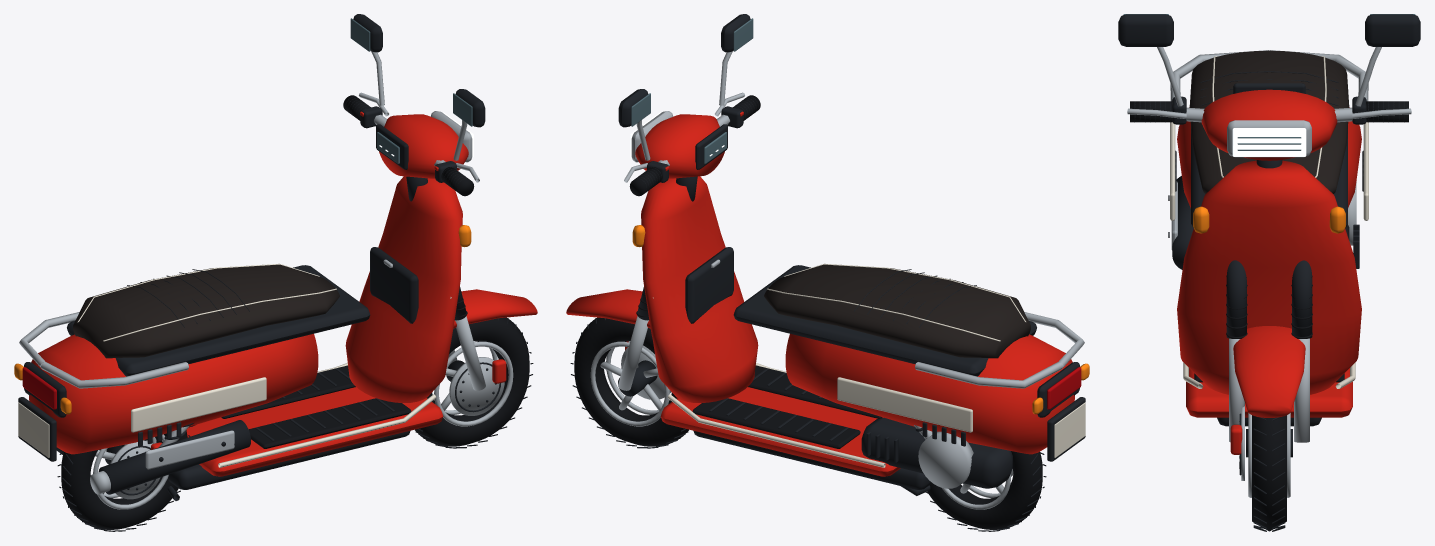
The model's file is SM_CityScooter.fbx.
3 views of the same model, side by side, from view 1: azimuth 30°, elevation 25°; view 2: azimuth 150°, elevation 25°; view 3: azimuth 270°, elevation 25° (orthographic). The views are drawn at different scales.
Visible parts, largest first — view 1: SM_CityScooter; view 2: SM_CityScooter; view 3: SM_CityScooter.
Boxes of the visible parts, box(x1,y1,x2,y2) form: SM_CityScooter: box(14, 14, 537, 531); SM_CityScooter: box(566, 14, 1089, 531); SM_CityScooter: box(1118, 14, 1420, 531).
Size of the model in its own units: 191 by 83.4 by 147.
